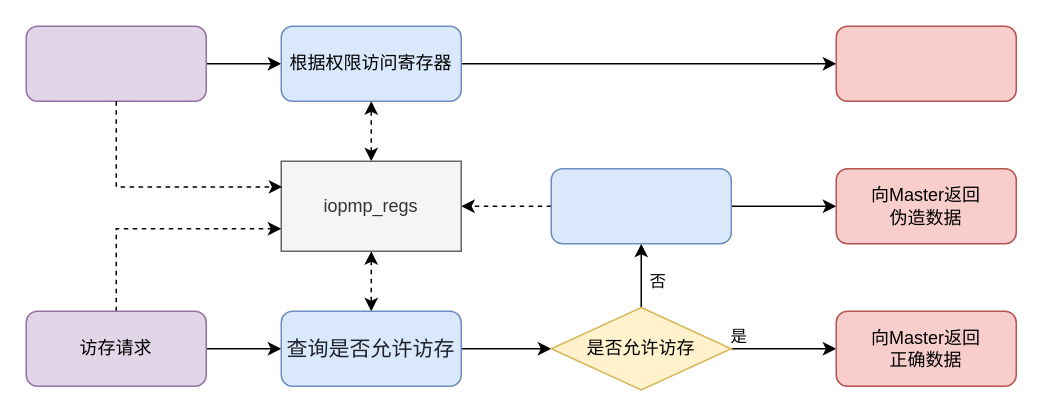
Image size: 1043x417. Some labels were removed from this diagram. The centre of each missing label's shape, as x and y in pixels:
写入错误信息: (x=640, y=205)
向CPU返回数据: (x=925, y=63)
寄存器读写请求: (x=115, y=63)
